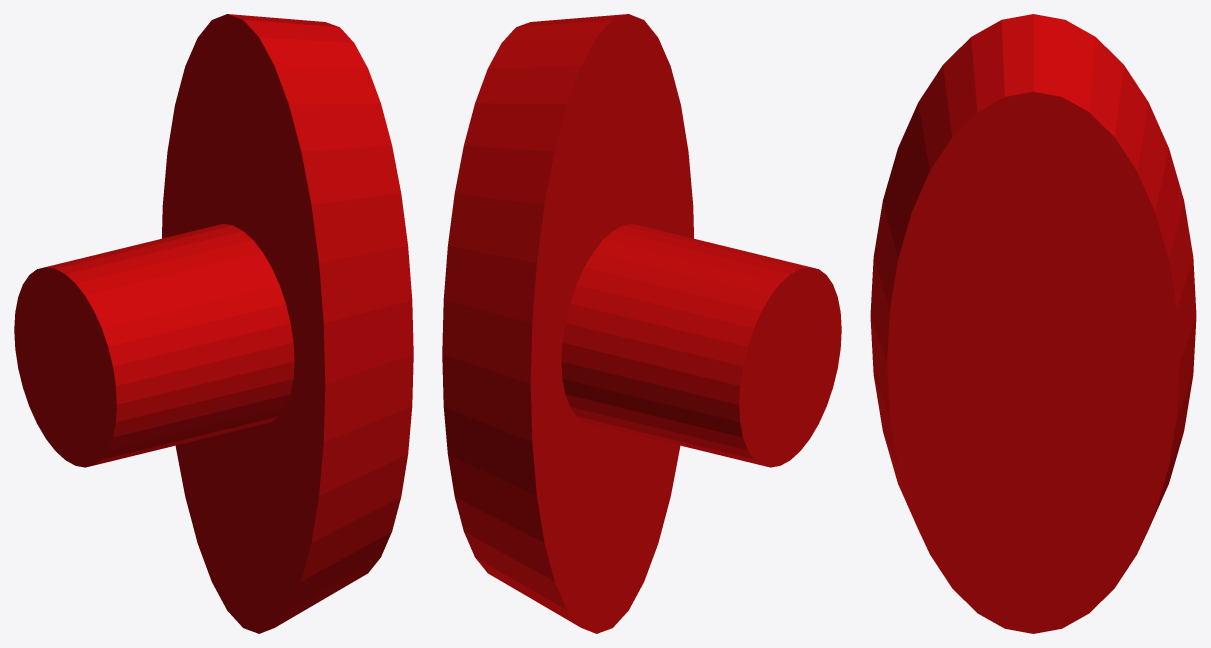
Rendered from threeJSValve.obj.
3 renders of one model, left to right at view 1: azimuth 30°, elevation 25°; view 2: azimuth 150°, elevation 25°; view 3: azimuth 270°, elevation 25°, orthographic.
Visible parts, largest first — view 1: Valve_Cylinder.001; view 2: Valve_Cylinder.001; view 3: Valve_Cylinder.001.
Boxes of the visible parts, left/top/right/bottom form: Valve_Cylinder.001: left=14, top=14, right=413, bottom=633; Valve_Cylinder.001: left=442, top=14, right=841, bottom=633; Valve_Cylinder.001: left=870, top=14, right=1196, bottom=633.
Bounding box in the file's own units: 1.28 × 2.71 × 1.32.
